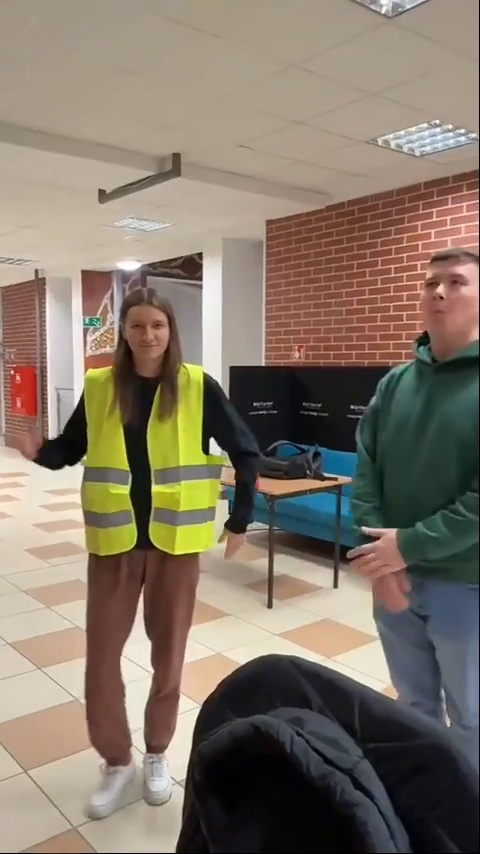no vest: (347, 248, 480, 772)
vest: (66, 285, 269, 806)
